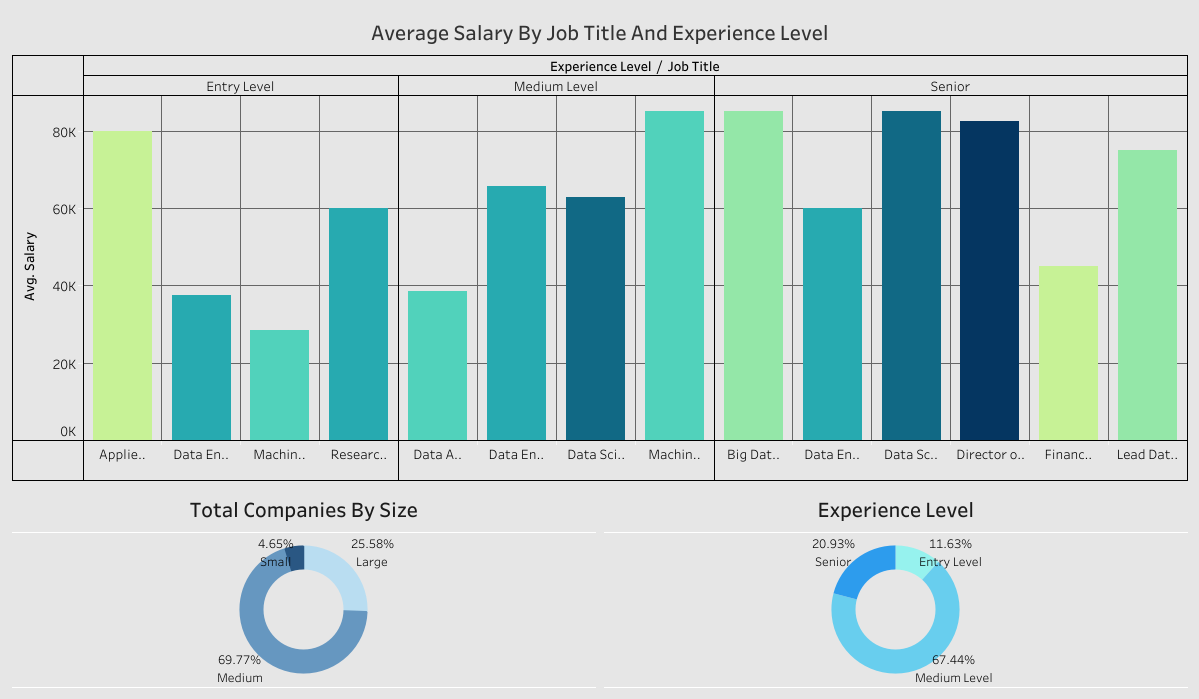

The page's visual inventory and layout, read from the dashboard file:
{"tool":"tableau","page":{"name":"Dashboard 1","canvas":[1200,700],"ordinal":0},"visuals":[{"type":"worksheet","title":"Average Salary By Job Title And Experience Level","mark":"Automatic","rows":["salary"],"cols":["experience_level","job_title"],"box":[8,8,1184,477]},{"type":"worksheet","title":"Total Companies By Size","mark":"Pie","rows":["Calculation_2157435332554977410","Calculation_2157435332555071620"],"box":[8,485,592,207]},{"type":"worksheet","title":"Experience Level","mark":"Pie","rows":["Calculation_2157435332554977410","Calculation_2157435332555071620"],"box":[600,485,592,207]}]}

Visuals, with their boxes in screenshot pixels (x1, y1, x2, y2), scaled from the page's 1200x700 canvas onto the 1199x699 screenshot:
"Average Salary By Job Title And Experience Level" worksheet: 8 8 1191 484
"Total Companies By Size" worksheet (Pie marks): 8 484 600 691
"Experience Level" worksheet (Pie marks): 600 484 1191 691
